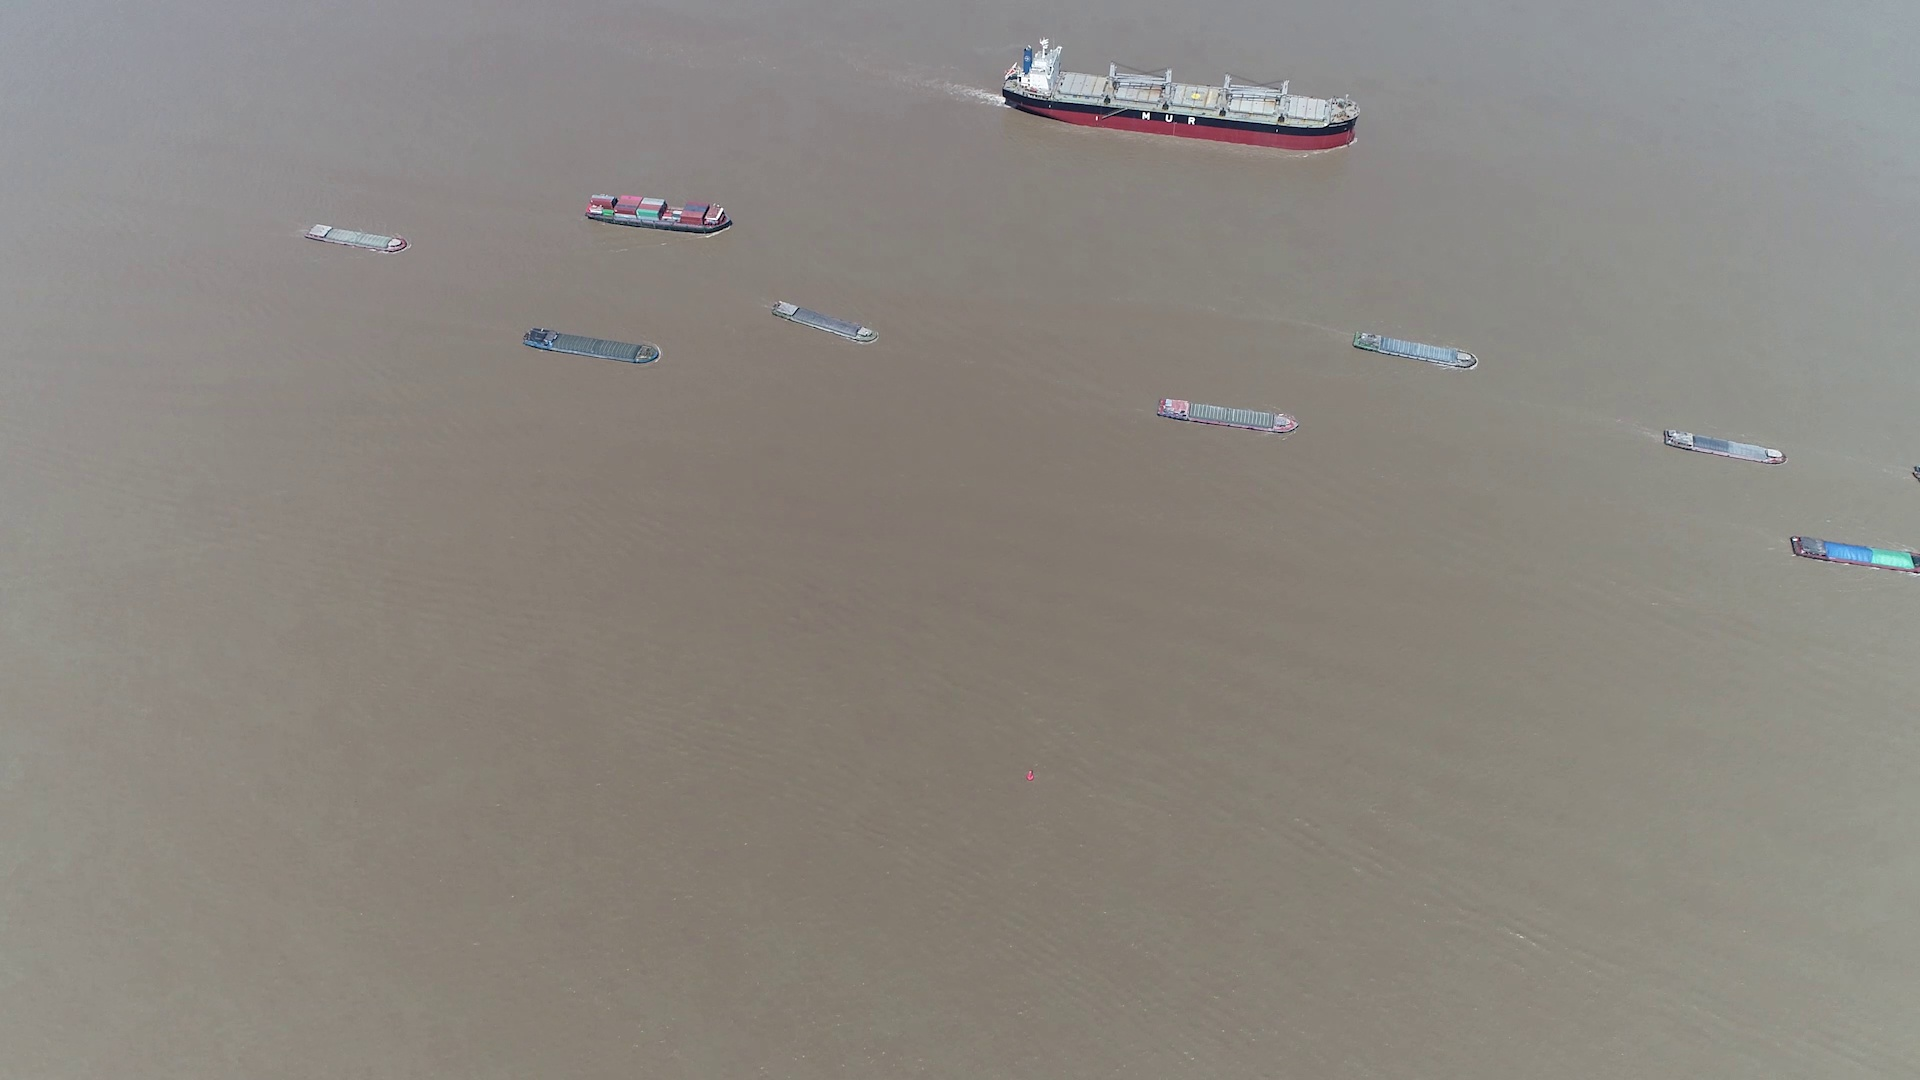ship: (1001, 42, 1360, 146), (585, 193, 733, 233), (1155, 396, 1300, 436), (520, 327, 665, 367), (1354, 328, 1477, 371), (1789, 535, 1917, 575), (769, 301, 878, 345), (1664, 429, 1787, 467), (305, 222, 407, 253)
